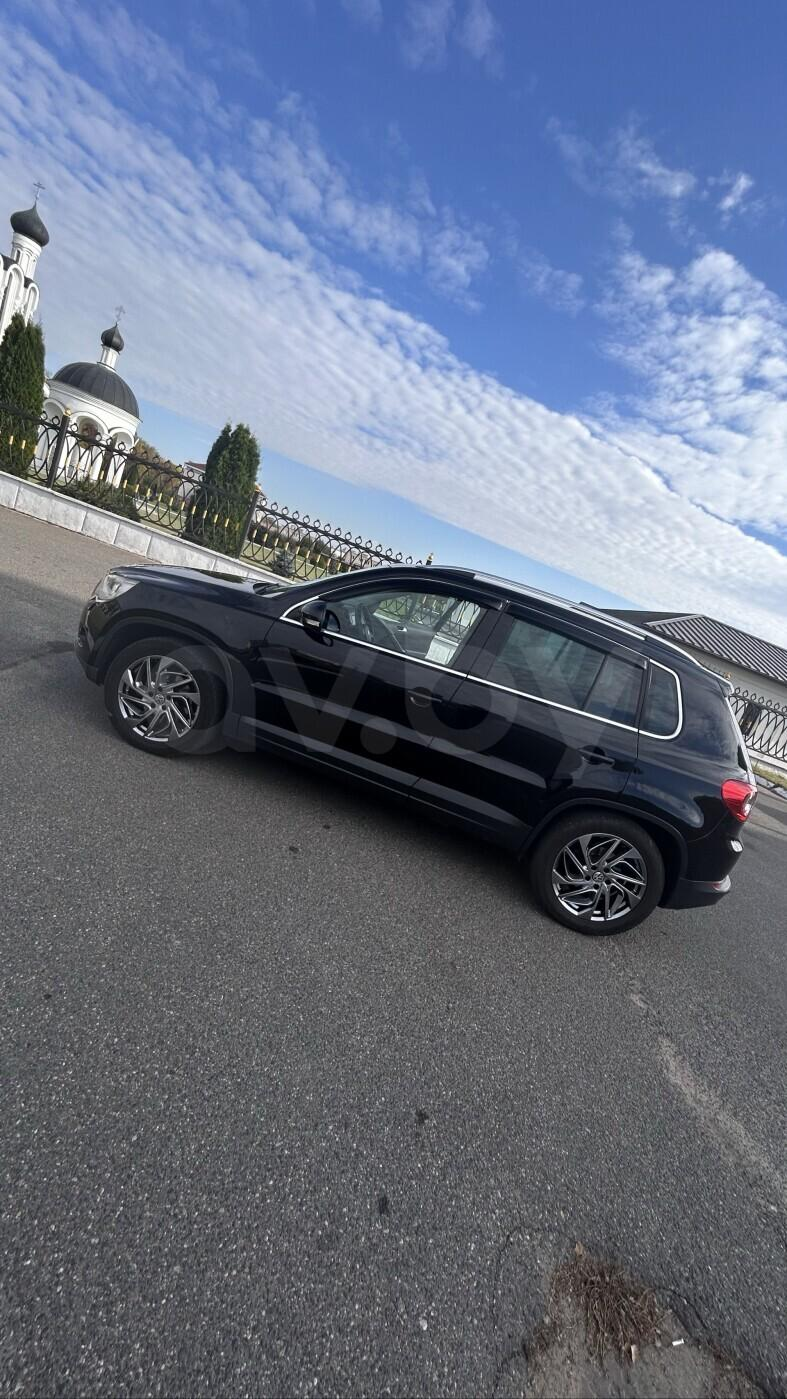Tiguan_2007-2011: (74, 550, 758, 944)
